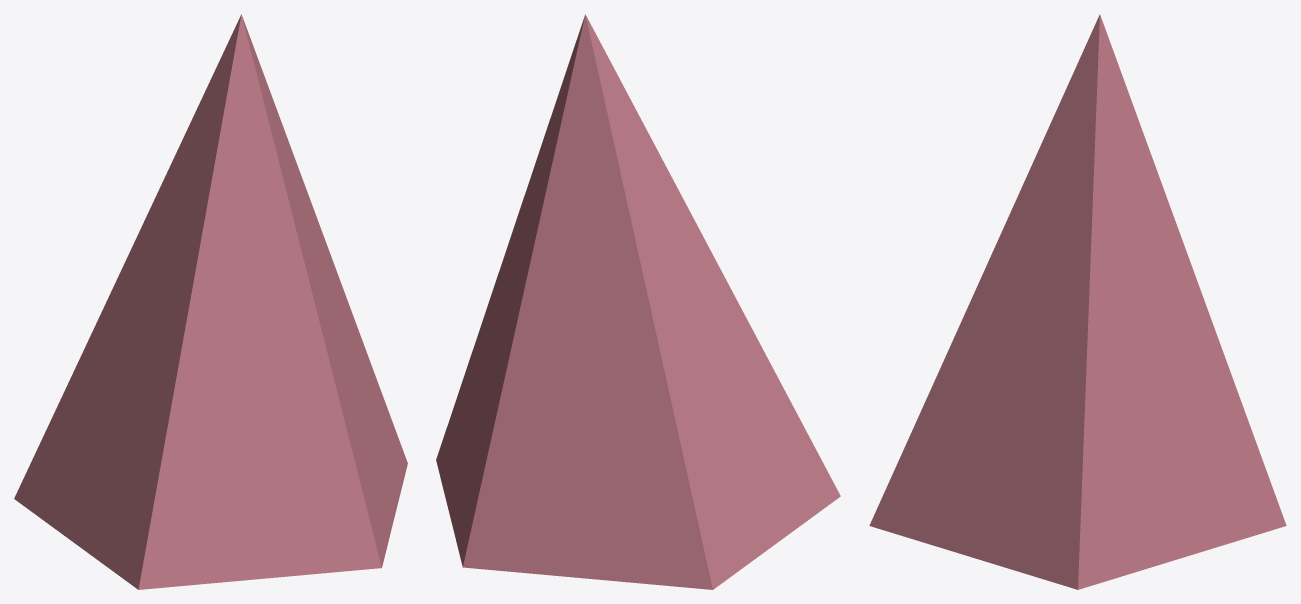
File: Coral_Shard.glb
3 renders of one model, left to right at view 1: azimuth 30°, elevation 25°; view 2: azimuth 150°, elevation 25°; view 3: azimuth 270°, elevation 25°, orthographic. The views are drawn at different scales.
Visible parts, largest first — view 1: CoralShard; view 2: CoralShard; view 3: CoralShard.
Boxes of the visible parts, x1,y1,x2,y2 form: CoralShard: [14, 14, 407, 589]; CoralShard: [436, 14, 840, 589]; CoralShard: [869, 14, 1286, 589].
Size of the model in its own units: 0.3256 by 0.49 by 0.3424.
